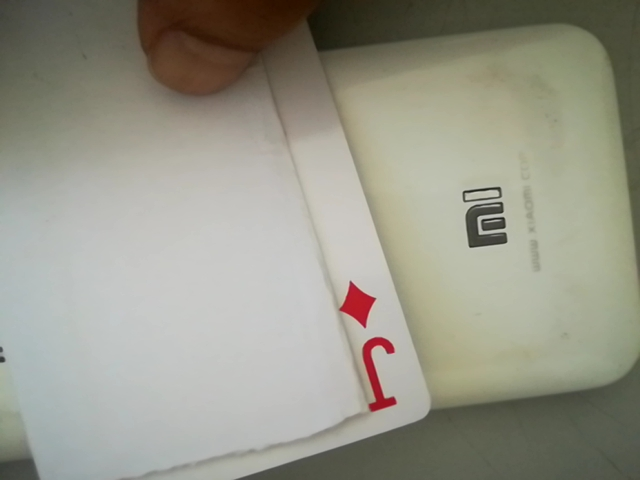fk j: (333, 271, 415, 423)
